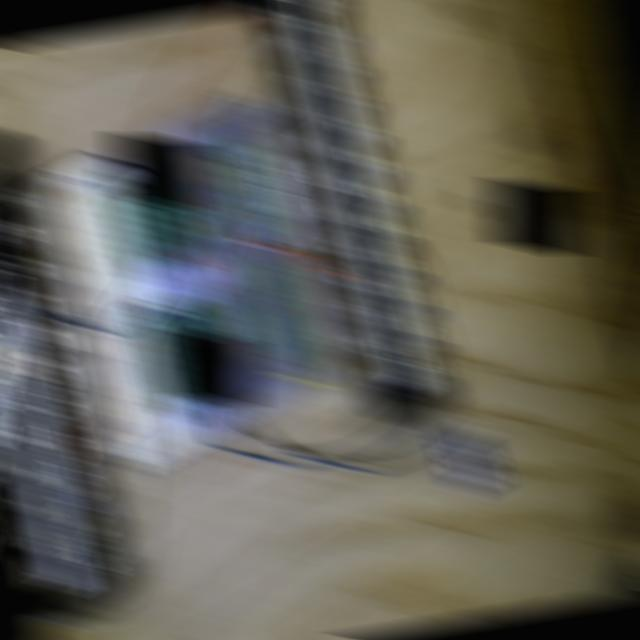Flathead_Block: (266, 0, 456, 426)
Phillips_Block: (0, 191, 115, 626)
Terminal_1: (216, 133, 277, 239), (249, 258, 307, 363)
Terminal_2: (192, 287, 250, 390), (135, 313, 192, 416), (164, 301, 221, 403), (128, 158, 185, 259), (155, 147, 212, 246)
